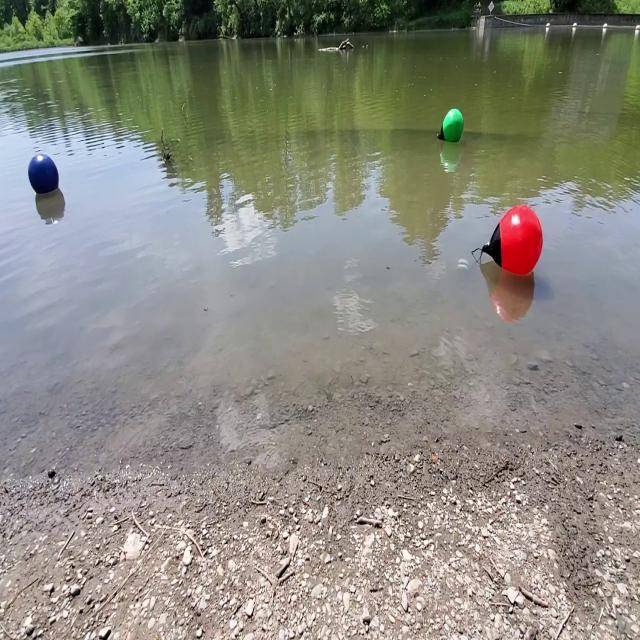buoy: (471, 202, 545, 278), (28, 151, 61, 197), (436, 106, 466, 148)
